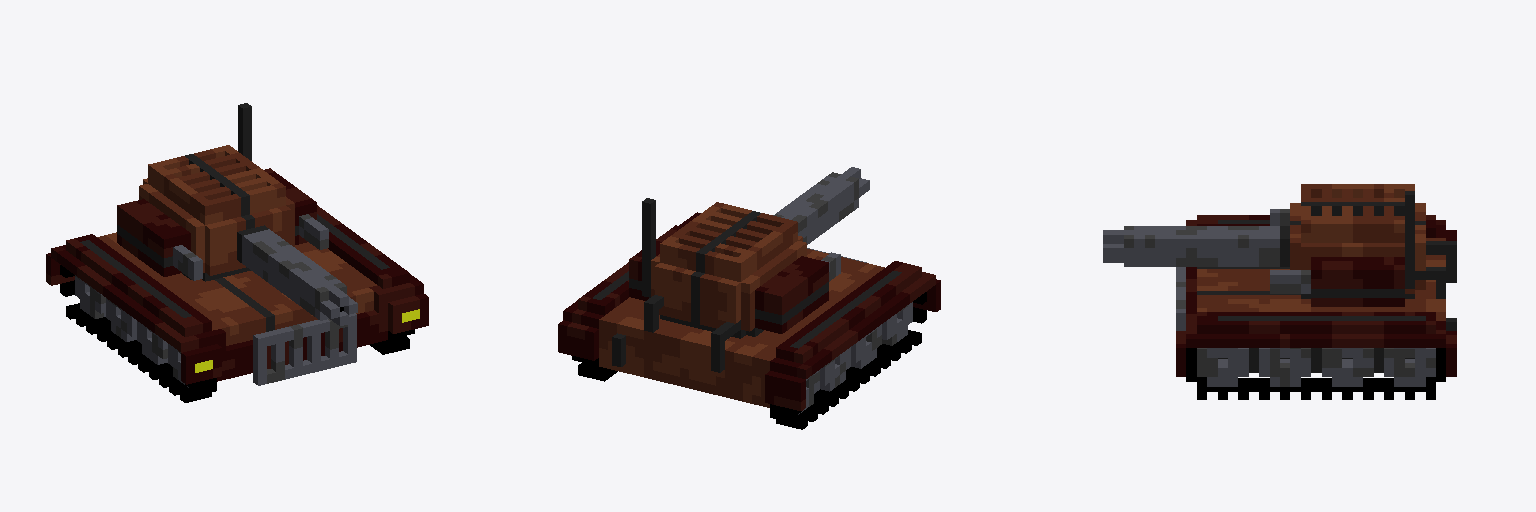
3 views of the same model, side by side, from view 1: azimuth 30°, elevation 25°; view 2: azimuth 150°, elevation 25°; view 3: azimuth 270°, elevation 25° (orthographic).
Parts seen in each view (by area): view 1: object 1; view 2: object 1; view 3: object 1.
Boxes of the visible parts, x1=… form: object 1: x1=46, y1=103, x2=428, y2=402; object 1: x1=558, y1=167, x2=940, y2=429; object 1: x1=1103, y1=184, x2=1456, y2=399.
Bounding box in the file's own units: 2.7 × 1.9 × 3.4.
Materials: 1 (1 with a texture image).